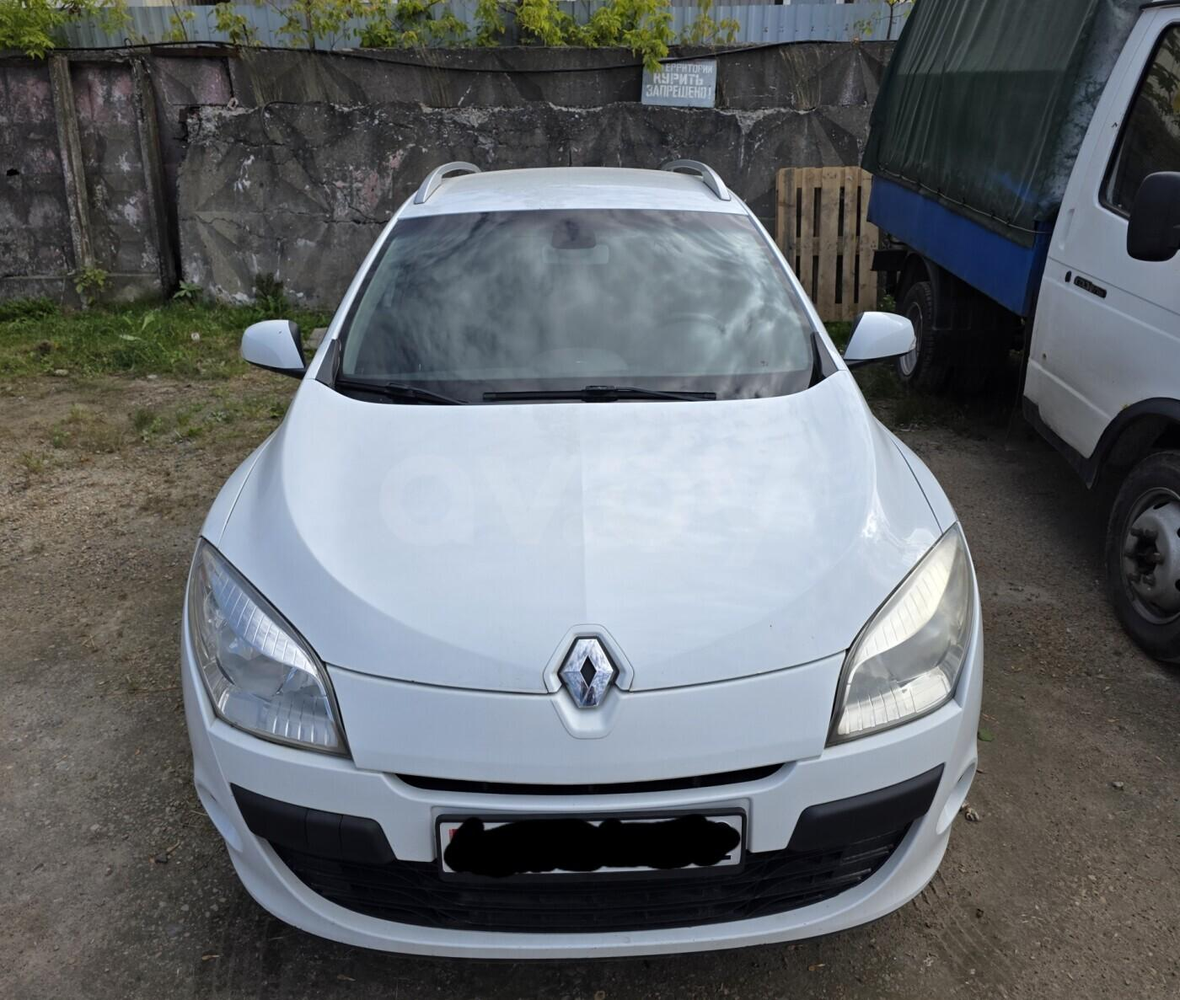Megane_2008-2014: (176, 163, 992, 952)
